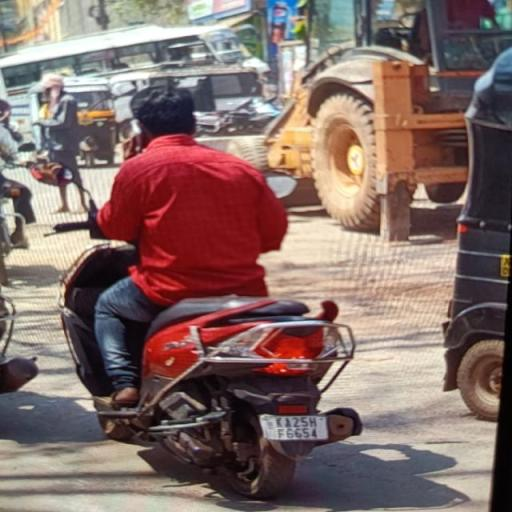bike: (52, 79, 362, 508)
numberplate: (260, 415, 334, 442)
using mobile: (124, 120, 148, 159)
withouthelmet: (131, 82, 200, 146)
